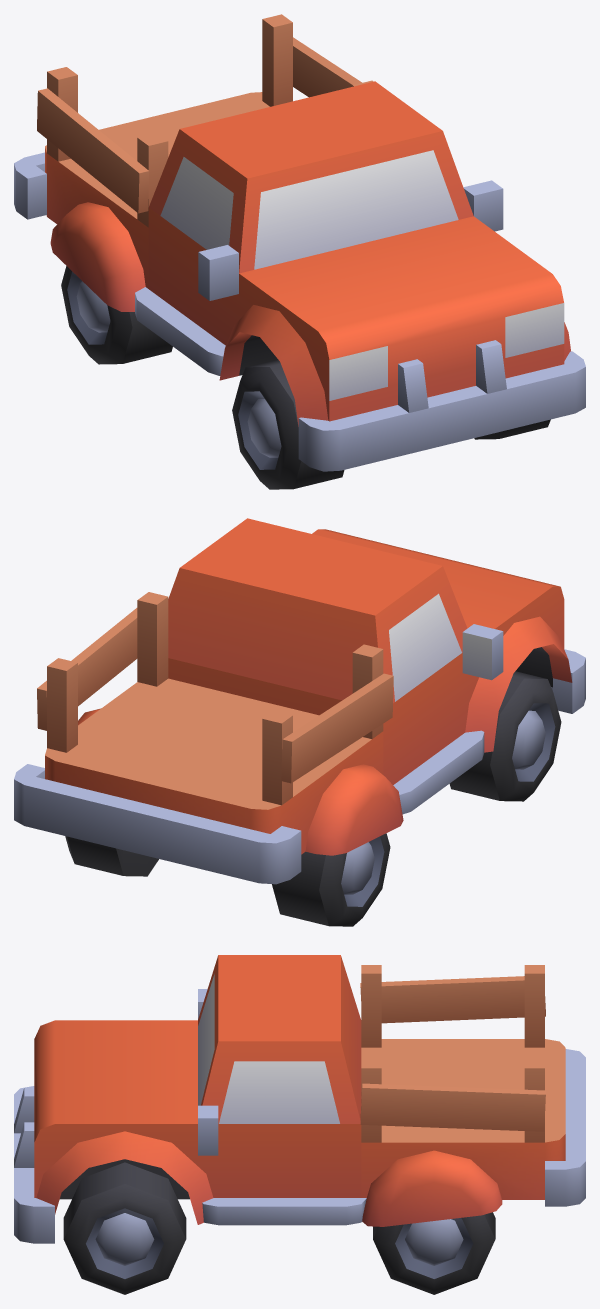
Rendered from vehicle-truck-red.fbx.
3 views of the same model, one above another, from view 1: azimuth 30°, elevation 25°; view 2: azimuth 150°, elevation 25°; view 3: azimuth 270°, elevation 25° (orthographic). The views are drawn at different scales.
Visible parts, largest first — view 1: body, wheel-front-right, wheel-back-right; view 2: body, wheel-front-right, wheel-back-right, wheel-back-left; view 3: body, wheel-front-left, wheel-back-left.
Part boxes in pixels (x1=…): body: x1=14, y1=14, x2=585, y2=471; wheel-front-right: x1=232, y1=359, x2=344, y2=489; wheel-back-right: x1=61, y1=266, x2=172, y2=364; body: x1=14, y1=518, x2=585, y2=884; wheel-front-right: x1=449, y1=671, x2=561, y2=801; wheel-back-right: x1=272, y1=833, x2=390, y2=926; wheel-back-left: x1=65, y1=836, x2=158, y2=876; body: x1=14, y1=955, x2=585, y2=1243; wheel-front-left: x1=63, y1=1162, x2=186, y2=1294; wheel-back-left: x1=373, y1=1212, x2=495, y2=1294.
Bounding box in the file's own units: 1.5 × 1.3 × 2.8.
